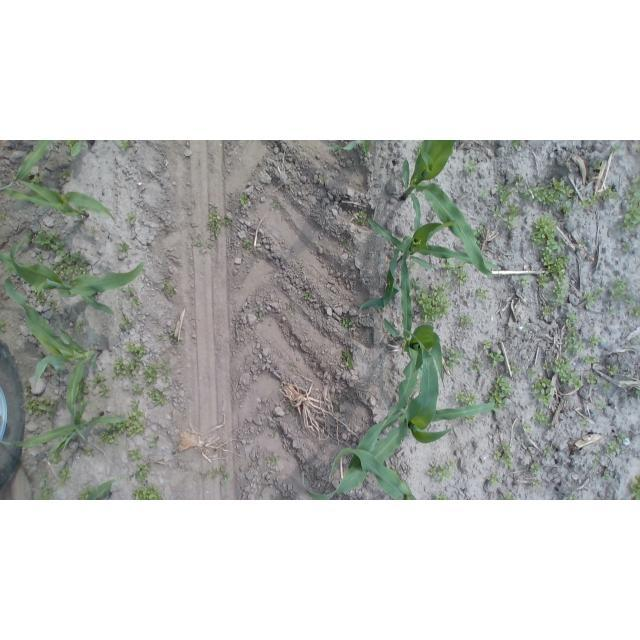Maize: (296, 328, 497, 500), (351, 241, 447, 463), (4, 275, 103, 444), (354, 209, 498, 316), (399, 140, 496, 276), (0, 244, 146, 316), (0, 394, 130, 456), (0, 173, 116, 223), (327, 446, 417, 500), (1, 140, 54, 193), (87, 477, 119, 499), (326, 140, 358, 156), (71, 140, 97, 157)
Weeds: (519, 177, 601, 214), (415, 281, 452, 325), (541, 356, 581, 388), (533, 214, 565, 254), (617, 175, 640, 230), (21, 382, 57, 416), (53, 249, 90, 279), (486, 375, 514, 410), (542, 251, 570, 281), (144, 360, 175, 385), (610, 275, 637, 303), (26, 229, 63, 249), (427, 460, 458, 482), (532, 375, 554, 406), (208, 211, 233, 238), (127, 403, 146, 437), (564, 327, 585, 356), (481, 339, 503, 366), (113, 357, 139, 379), (503, 203, 524, 230), (494, 443, 515, 470), (442, 260, 467, 280), (37, 473, 55, 499), (445, 347, 463, 372), (133, 485, 163, 500), (581, 289, 602, 310), (106, 413, 126, 434), (497, 183, 516, 205), (125, 341, 147, 359), (92, 375, 110, 396), (453, 391, 479, 405), (533, 408, 552, 427), (552, 280, 568, 302), (208, 467, 228, 483), (135, 462, 150, 483), (148, 388, 166, 405), (59, 465, 72, 487), (100, 432, 121, 445), (629, 476, 640, 500), (162, 278, 176, 296), (602, 187, 618, 202), (77, 380, 88, 401), (474, 225, 485, 246), (342, 350, 354, 369), (79, 485, 94, 500), (588, 333, 603, 348), (530, 462, 544, 477), (360, 140, 373, 156), (537, 273, 550, 288), (607, 441, 622, 454), (117, 243, 130, 258), (464, 161, 477, 175), (354, 211, 367, 225), (119, 317, 133, 330), (34, 291, 47, 305), (65, 140, 76, 156), (583, 354, 602, 363), (490, 208, 503, 221), (285, 301, 298, 314), (586, 371, 598, 385), (595, 399, 609, 411), (129, 448, 143, 460), (629, 306, 640, 321), (170, 329, 182, 342), (528, 366, 540, 379), (269, 428, 281, 441), (411, 277, 425, 288), (606, 303, 617, 317), (432, 493, 453, 500), (476, 288, 488, 300), (565, 312, 577, 324), (519, 274, 531, 286), (500, 491, 516, 500), (268, 454, 279, 467), (515, 173, 526, 186), (119, 141, 132, 152), (50, 453, 63, 464), (459, 315, 472, 326), (240, 194, 251, 207), (471, 359, 482, 372), (127, 212, 137, 226), (541, 305, 553, 316), (488, 473, 500, 484), (541, 446, 553, 457), (510, 140, 523, 150), (287, 407, 298, 418), (32, 175, 43, 186), (617, 432, 627, 444), (34, 251, 44, 263), (607, 363, 617, 375), (48, 301, 59, 311), (593, 160, 603, 171), (125, 286, 136, 296), (578, 416, 589, 426), (569, 490, 580, 500), (243, 241, 253, 252), (83, 447, 95, 456), (194, 235, 203, 247), (622, 242, 631, 254), (61, 168, 71, 178), (521, 422, 531, 432), (509, 365, 520, 374), (133, 386, 144, 395), (131, 296, 140, 307), (611, 145, 622, 154), (465, 415, 476, 424), (204, 242, 216, 250), (602, 381, 611, 391), (76, 321, 85, 331), (342, 319, 351, 328), (482, 189, 491, 198), (302, 291, 311, 300), (150, 437, 158, 447), (271, 202, 281, 210), (0, 320, 6, 333), (339, 395, 350, 402), (332, 403, 340, 412), (531, 479, 542, 485), (602, 471, 610, 479), (155, 332, 163, 340), (632, 389, 640, 396), (256, 306, 264, 313), (297, 261, 305, 268), (601, 496, 614, 500), (318, 173, 323, 183), (579, 239, 586, 246), (415, 148, 422, 155), (259, 315, 266, 321), (271, 409, 276, 417), (377, 308, 383, 312)
